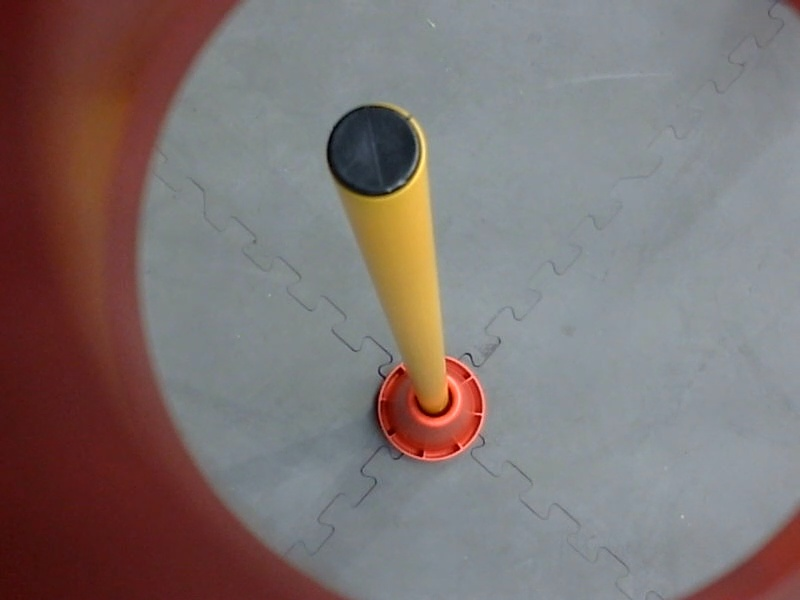tip: (317, 92, 428, 212)
